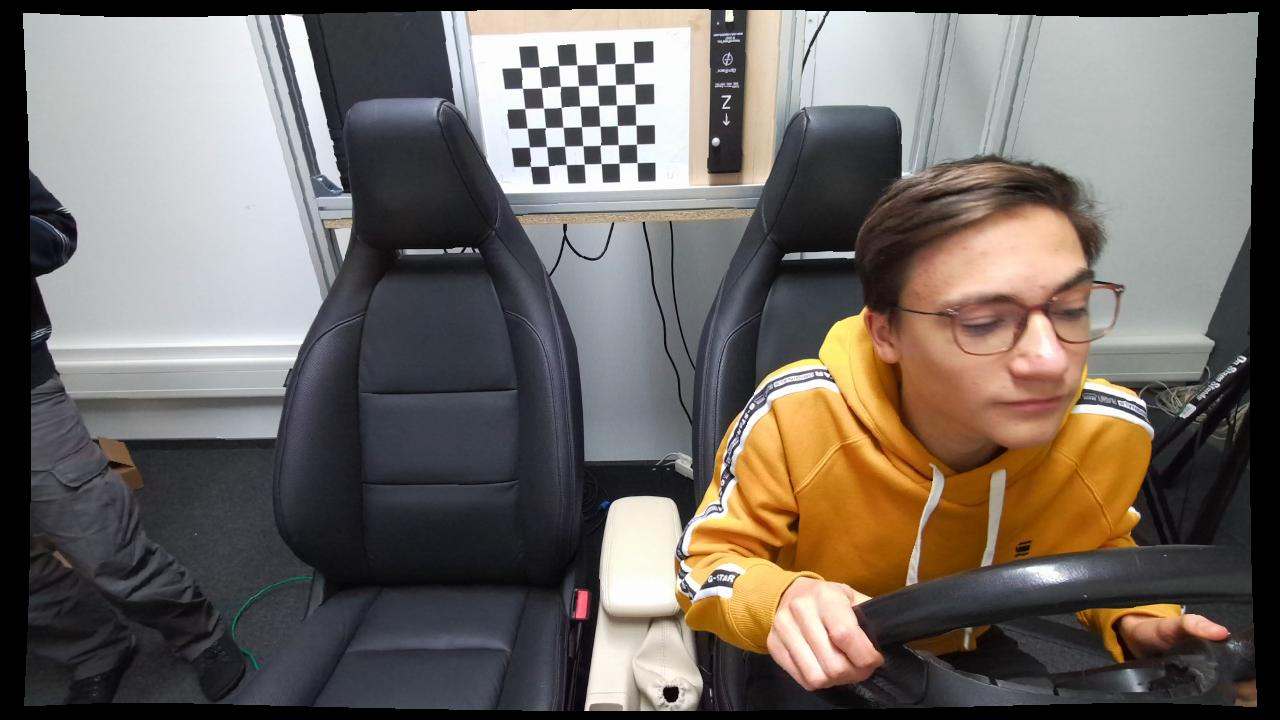Distracted: (673, 150, 1159, 708)
